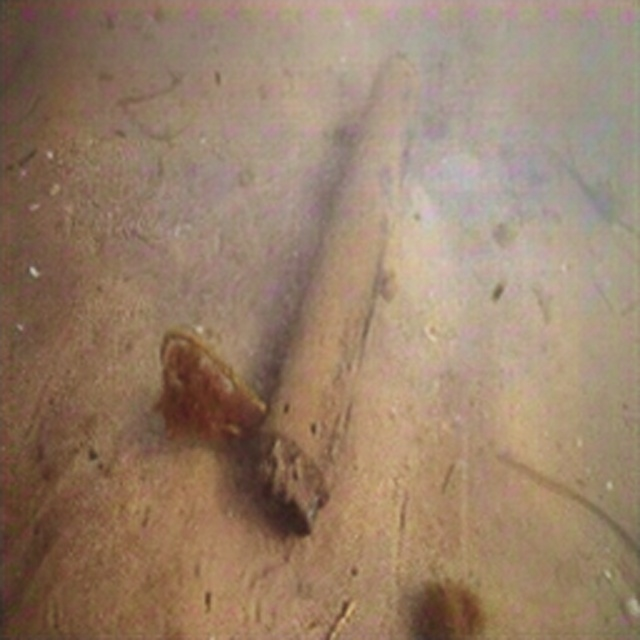mine: (252, 50, 423, 542)
